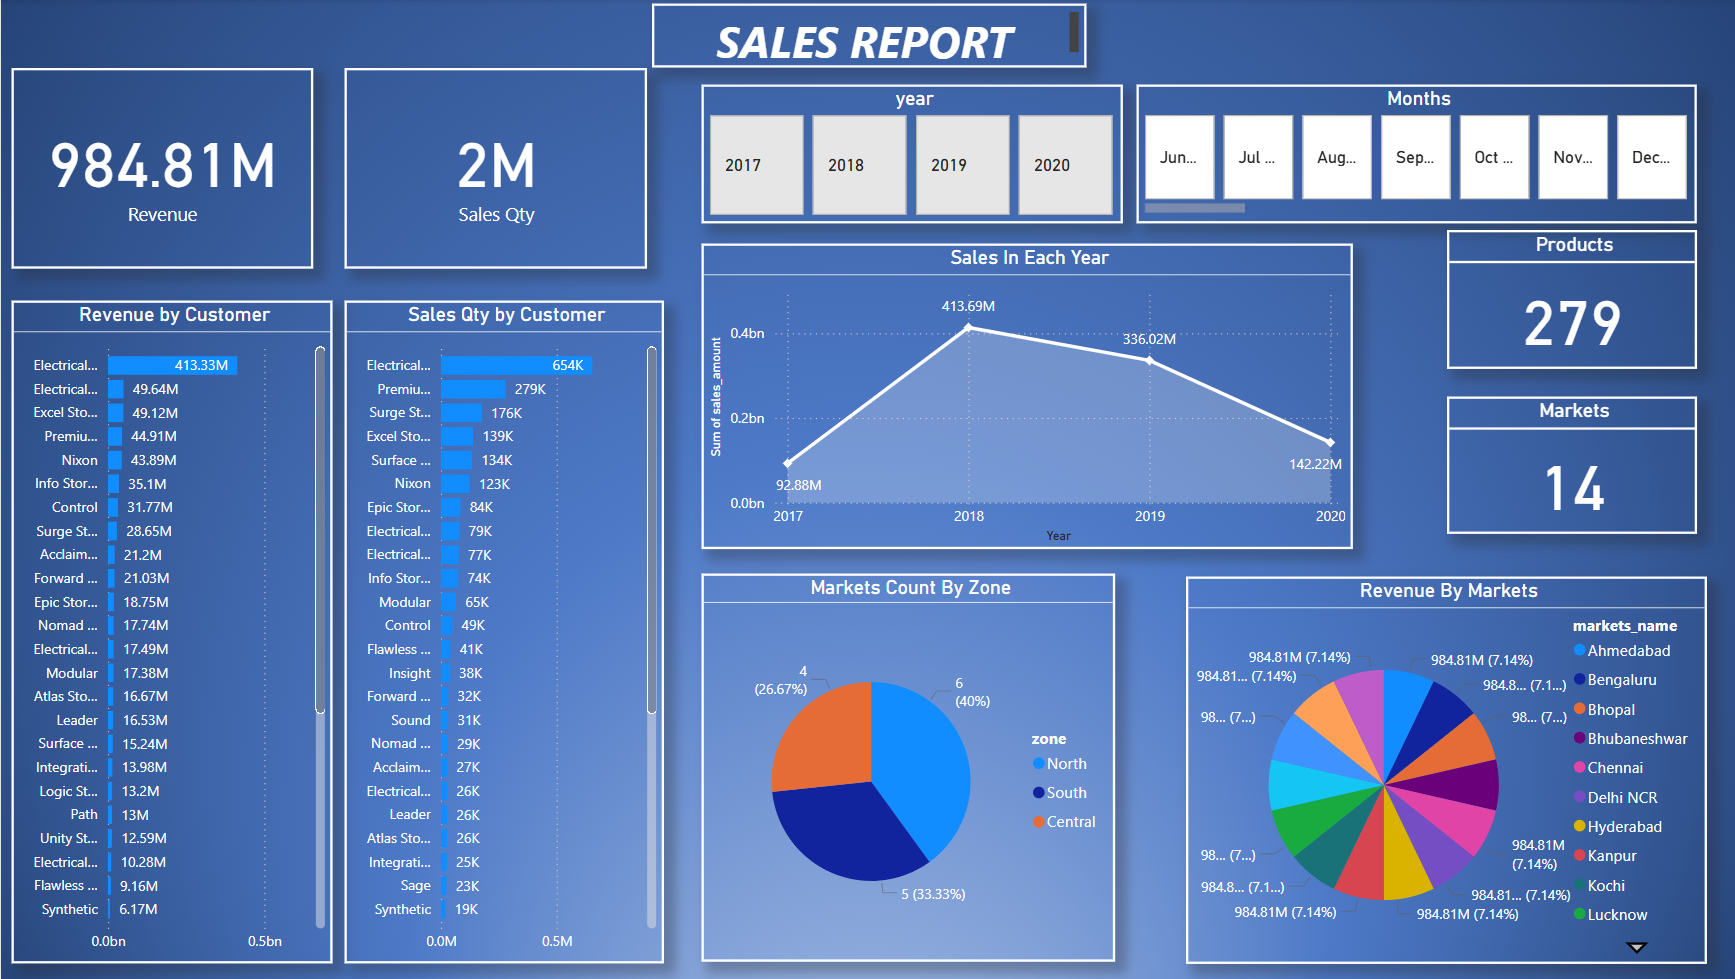

The page's visual inventory and layout, read from the dashboard file:
{"tool":"powerbi","page":{"name":"Page 1","canvas":[1500,850],"ordinal":0},"visuals":[{"type":"card","fields":{"Values":["BaseMeasures.Revenue"]},"box":[8.9,60,260.4,173.6],"z":0},{"type":"card","fields":{"Values":["BaseMeasures.Sales Qty"]},"box":[296.1,60,261.6,173.6],"z":1000},{"type":"barChart","title":"Revenue by Customer","fields":{"Y":["BaseMeasures.Revenue"],"Category":["sales customers.custmer_name"]},"box":[8.8,260.1,277.6,572.7],"z":2000},{"type":"barChart","title":"Sales Qty by Customer","fields":{"Y":["BaseMeasures.Sales Qty"],"Category":["sales customers.custmer_name"]},"box":[296.6,260.1,276.1,572.7],"z":3000},{"type":"advancedSlicerVisual","fields":{"Values":["sales date.year"]},"box":[605,74,363.7,120],"z":4000},{"type":"textbox","box":[562.5,4.4,375.5,55.5],"z":5000},{"type":"advancedSlicerVisual","title":"Months","fields":{"Values":["sales date.cy_date"]},"box":[981.5,74,483.7,120],"z":6000},{"type":"pieChart","title":"Markets Count By Zone","fields":{"Y":["CountNonNull(sales markets.markets_name)"],"Category":["sales markets.zone"]},"box":[605,496.5,357.4,335.7],"z":7000},{"type":"pieChart","title":"Revenue By Markets","fields":{"Category":["sales markets.markets_name"],"Y":["BaseMeasures.Revenue"]},"box":[1024.2,498.2,450,334.6],"z":8000},{"type":"areaChart","title":"Sales In Each Year","fields":{"Category":["sales transactions.order_date.Variation.Date Hierarchy.Year"],"Y":["Sum(sales transactions.sales_amount)"]},"box":[605,210.6,562.8,264.2],"z":9000},{"type":"card","title":"Products","fields":{"Values":["Count(sales products.product_code)"]},"box":[1249.2,200.2,216.2,119.8],"z":10000},{"type":"card","title":"Markets","fields":{"Values":["Count(sales markets.markets_name)"]},"box":[1249.2,343.3,216.2,118.3],"z":11000}]}

Visuals, with their boxes in screenshot pixels (x1, y1, x2, y2), scaled from the page's 1500x850 canvas onto the 1735x979 screenshot:
card - BaseMeasures.Revenue: bbox=[10, 69, 311, 269]
card - BaseMeasures.Sales Qty: bbox=[342, 69, 645, 269]
"Revenue by Customer" barChart: bbox=[10, 300, 331, 959]
"Sales Qty by Customer" barChart: bbox=[343, 300, 662, 959]
advancedSlicerVisual - sales date.year: bbox=[700, 85, 1120, 223]
textbox: bbox=[651, 5, 1085, 69]
"Months" advancedSlicerVisual: bbox=[1135, 85, 1695, 223]
"Markets Count By Zone" pieChart: bbox=[700, 572, 1113, 958]
"Revenue By Markets" pieChart: bbox=[1185, 574, 1705, 959]
"Sales In Each Year" areaChart: bbox=[700, 243, 1351, 547]
"Products" card: bbox=[1445, 231, 1695, 369]
"Markets" card: bbox=[1445, 395, 1695, 532]
